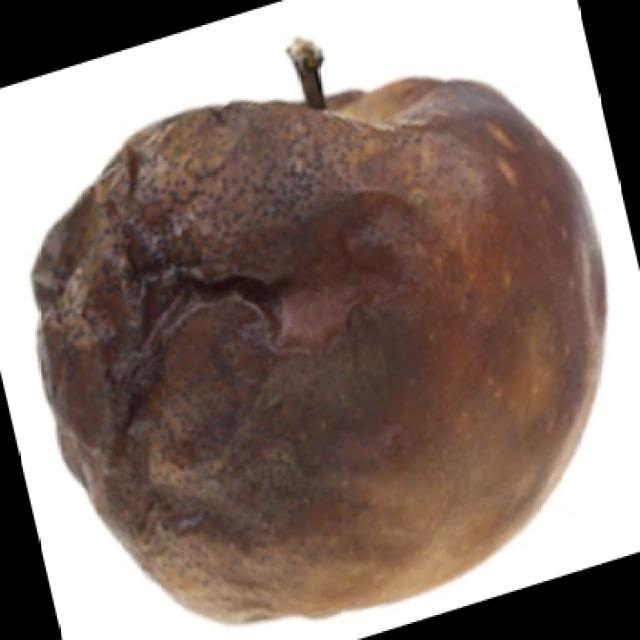Rotten: (45, 85, 590, 615)
